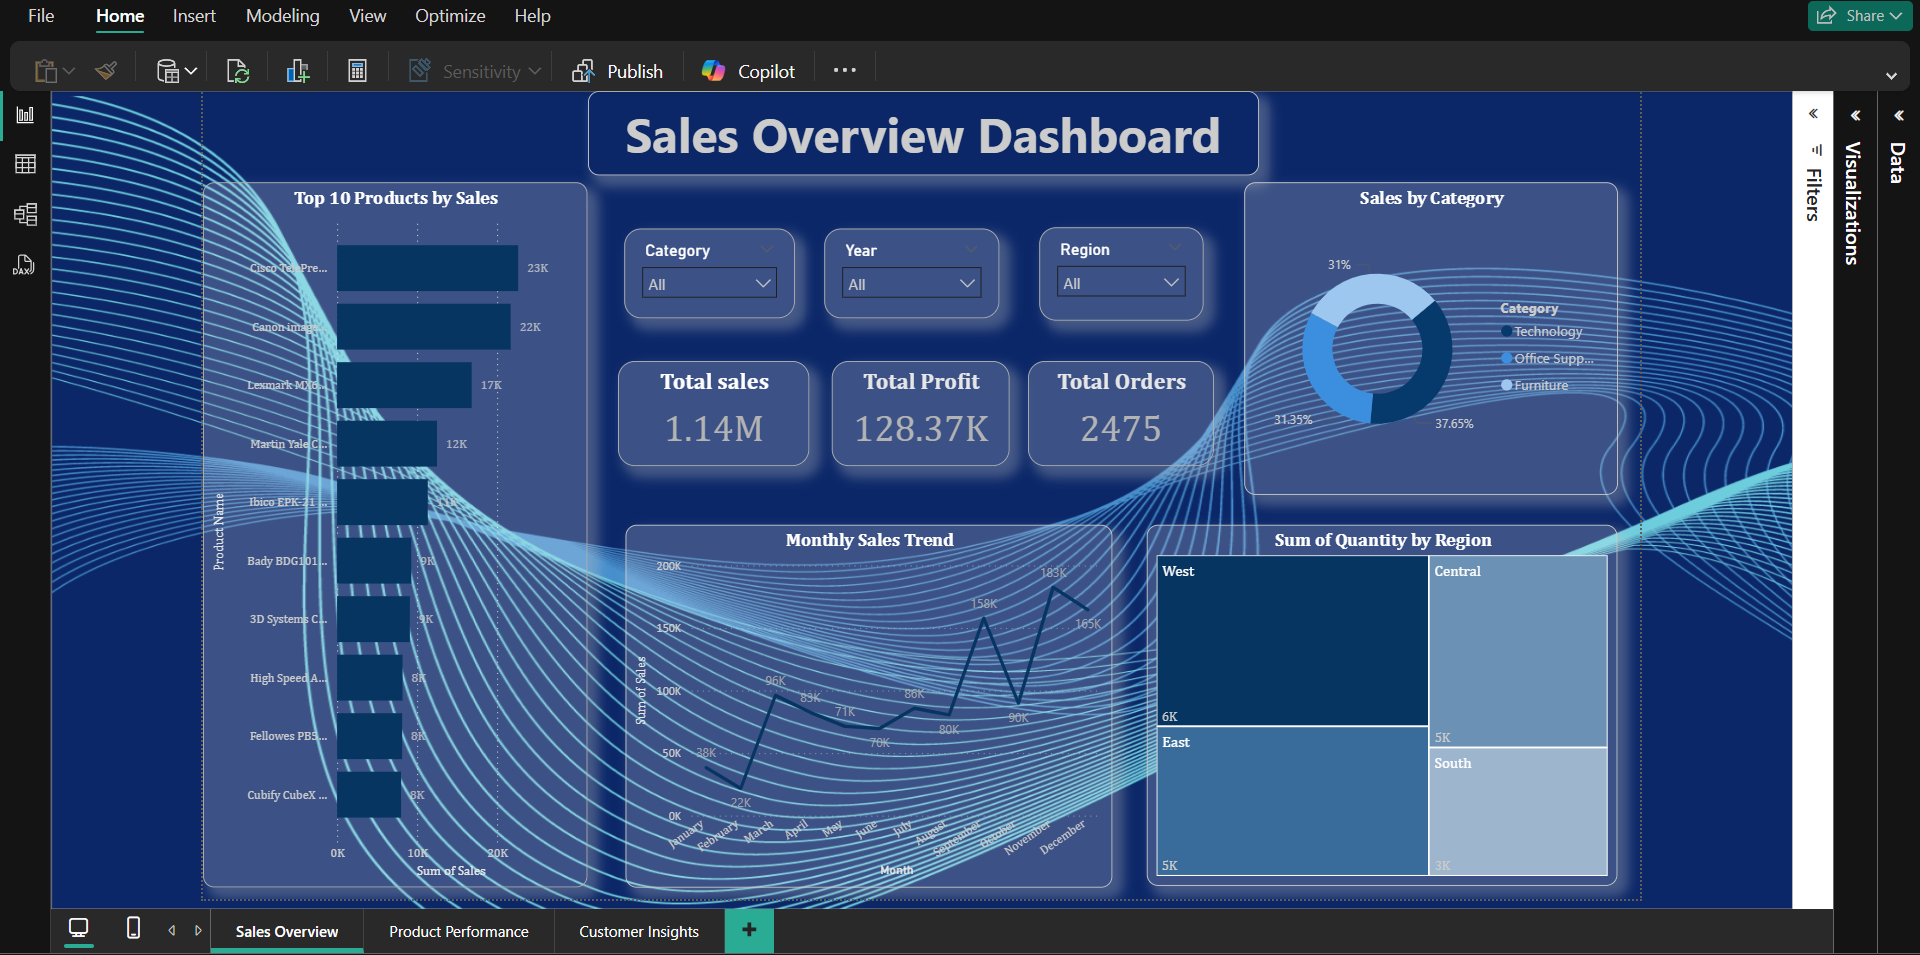

What the dashboard file says about the page in this screenshot:
{"tool":"powerbi","page":{"name":"Sales Overview","canvas":[1280,720],"ordinal":0},"visuals":[{"type":"slicer","fields":{"Values":["DateTable.Year"]},"box":[553.4,122.7,155.8,79.8],"z":0},{"type":"slicer","fields":{"Values":["Products.Category"]},"box":[375.5,122.7,152.1,79.8],"z":1000},{"type":"slicer","fields":{"Values":["Orders.Region"]},"box":[744.8,121.5,146,83.4],"z":2000},{"type":"card","title":"Total sales","fields":{"Values":["Sum(Orders.Sales)"]},"box":[369.3,240.5,170.6,93.3],"z":3000},{"type":"card","title":"Total Orders","fields":{"Values":["Count(Orders.Order ID)"]},"box":[735,240.5,165.6,93.3],"z":4000},{"type":"card","title":"Total Profit","fields":{"Values":["Sum(Orders.Profit)"]},"box":[559.5,240.5,158.3,93.3],"z":5000},{"type":"lineChart","title":"Monthly Sales Trend","fields":{"Y":["Sum(Orders.Sales)"],"Category":["Orders.Order Date.Variation.Date Hierarchy.Month"]},"box":[375.9,386.2,433.3,323],"z":6000},{"type":"clusteredBarChart","title":"Top 10 Products by Sales","fields":{"Category":["Orders.Product Name"],"Y":["Sum(Orders.Sales)"]},"box":[0,81,342.3,628.2],"z":7000},{"type":"donutChart","title":"Sales by Category","fields":{"Category":["Orders.Category"],"Y":["Sum(Orders.Sales)"]},"box":[927.6,81,332.5,278.5],"z":8000},{"type":"textbox","box":[342.3,0,597.5,74.8],"z":9000},{"type":"treemap","fields":{"Group":["Orders.Region"],"Values":["Sum(Orders.Quantity)"]},"box":[840.2,386.2,419.5,321.8],"z":10000}]}

Visuals, with their boxes on the page's 1280x720 design canvas (x1, y1, x2, y2). These are canvas units, not pixel positions in the 1920x955 screenshot, which may show the page scaled, cropped or inside an application window:
slicer - DateTable.Year: <region>553, 123, 709, 202</region>
slicer - Products.Category: <region>376, 123, 528, 202</region>
slicer - Orders.Region: <region>745, 122, 891, 205</region>
"Total sales" card: <region>369, 240, 540, 334</region>
"Total Orders" card: <region>735, 240, 901, 334</region>
"Total Profit" card: <region>560, 240, 718, 334</region>
"Monthly Sales Trend" lineChart: <region>376, 386, 809, 709</region>
"Top 10 Products by Sales" clusteredBarChart: <region>0, 81, 342, 709</region>
"Sales by Category" donutChart: <region>928, 81, 1260, 360</region>
textbox: <region>342, 0, 940, 75</region>
treemap - Orders.Region x Sum(Orders.Quantity): <region>840, 386, 1260, 708</region>
